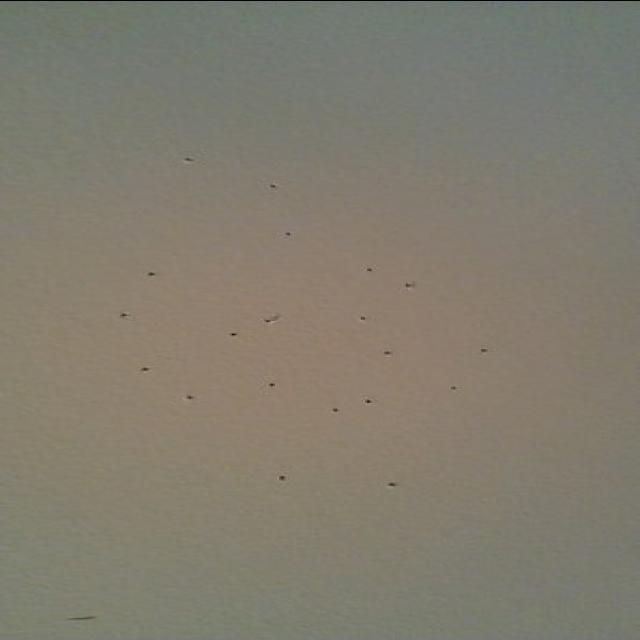Crack: (181, 154, 195, 169), (261, 314, 277, 326), (267, 182, 280, 194), (331, 406, 344, 418), (268, 383, 279, 397), (381, 346, 393, 358), (401, 279, 413, 290), (366, 394, 374, 409), (363, 312, 372, 324), (389, 478, 398, 490), (139, 366, 152, 374), (120, 309, 131, 318), (281, 233, 293, 241), (277, 474, 289, 482), (367, 266, 377, 274), (451, 376, 456, 391), (185, 391, 193, 400), (477, 350, 491, 355), (230, 332, 240, 338), (147, 272, 154, 278)
